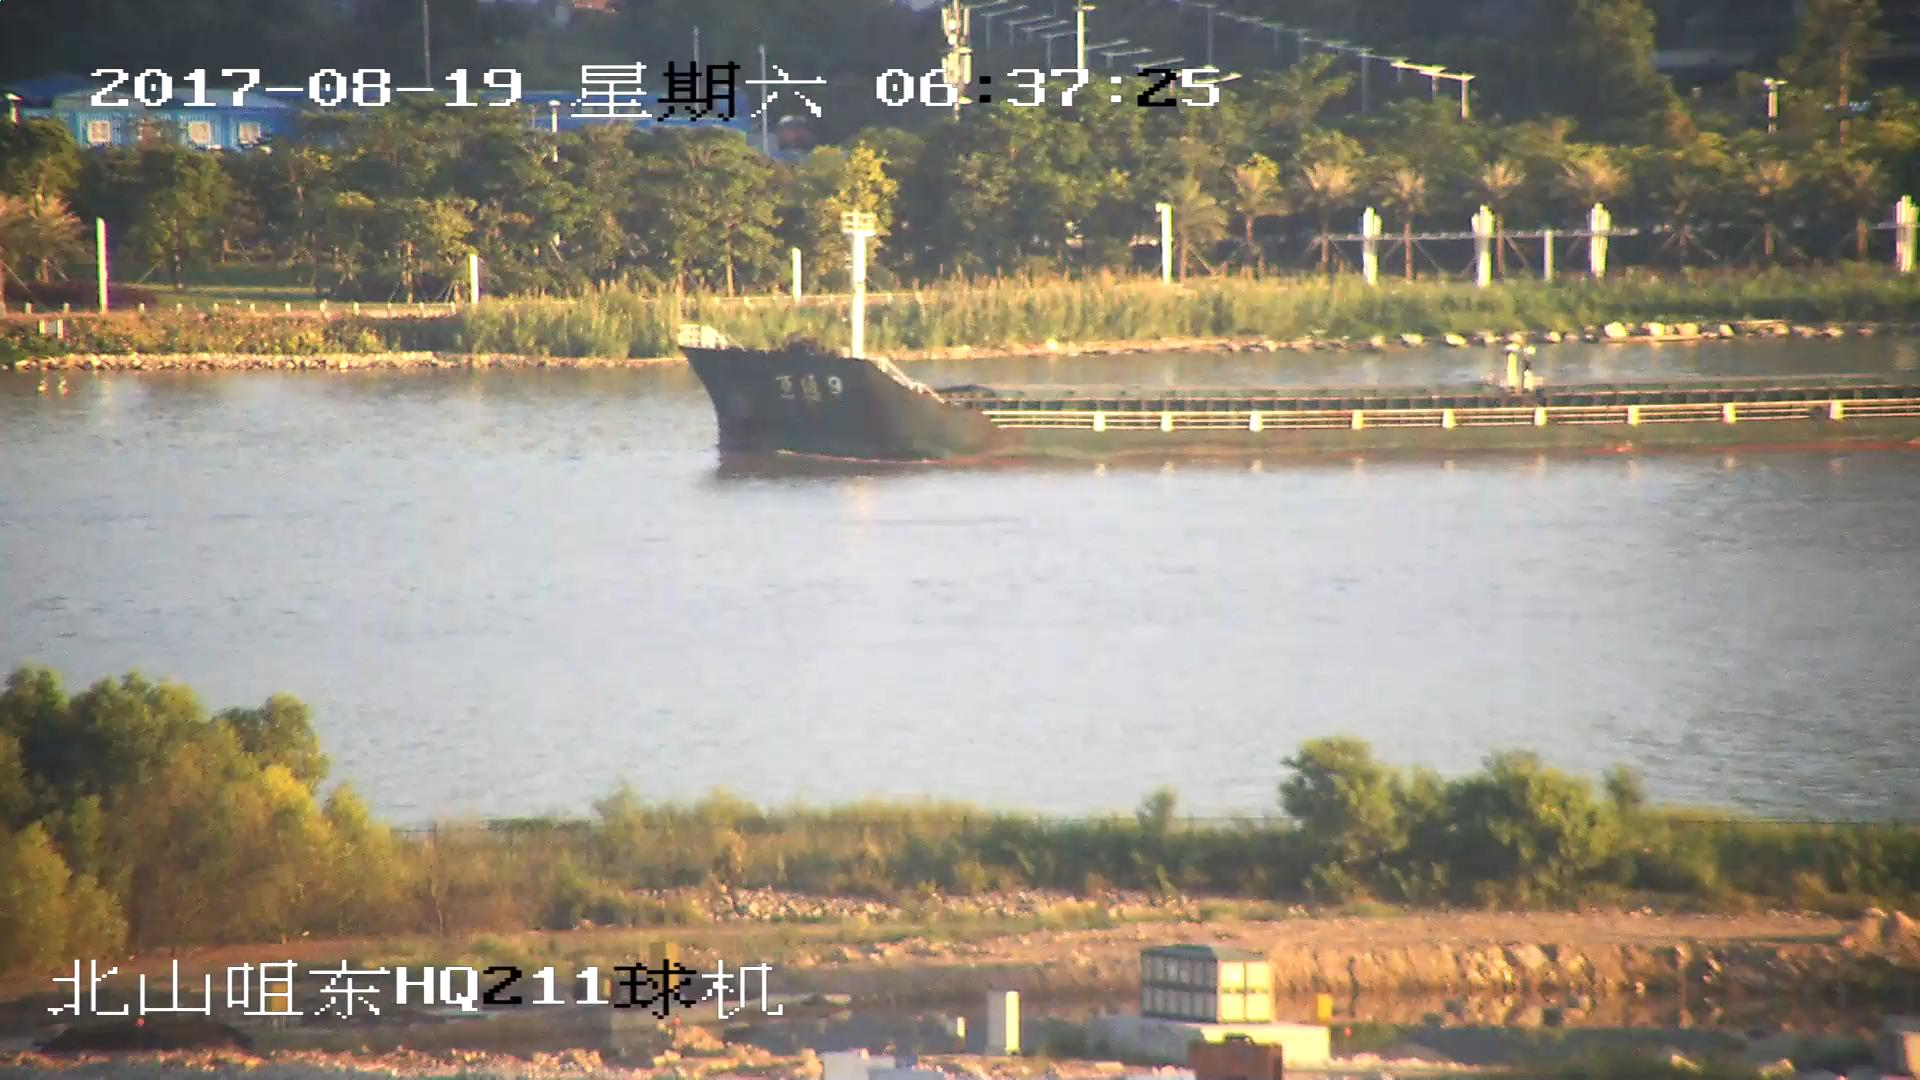general cargo ship: (672, 220, 1920, 454)
